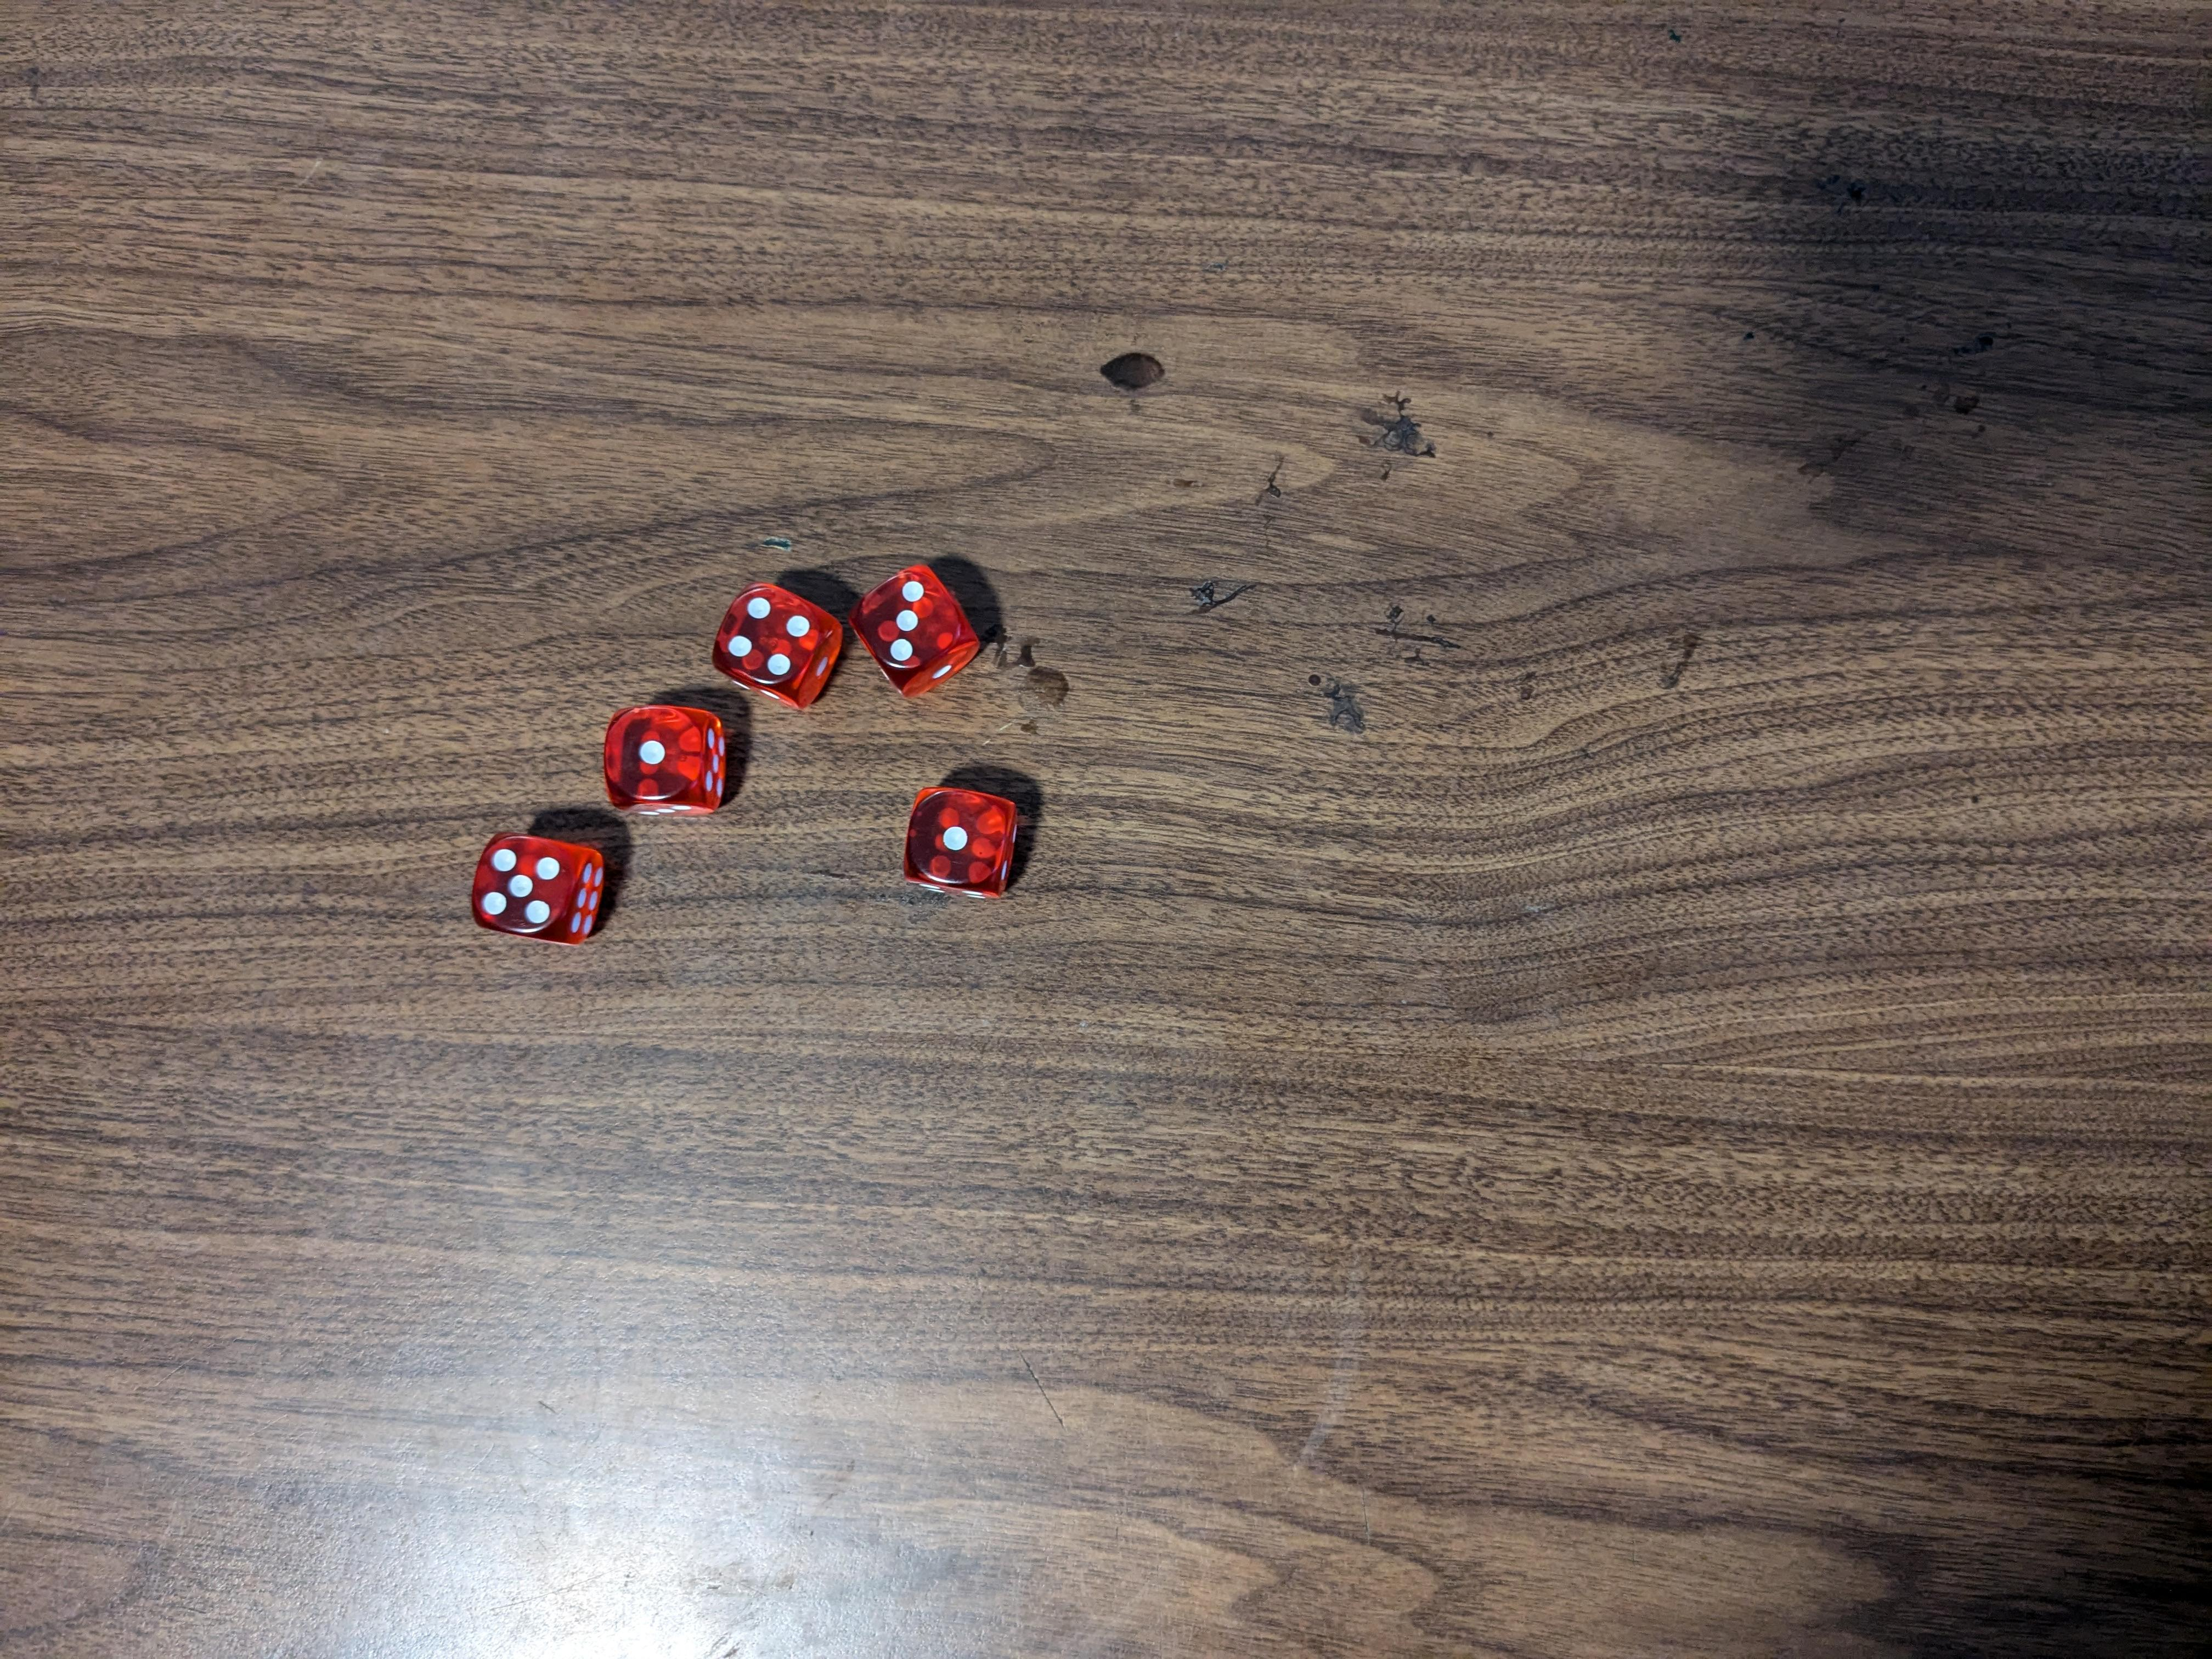five: (470, 830, 610, 943)
four: (709, 579, 841, 706)
one: (902, 784, 1017, 899), (603, 706, 728, 810)
three: (852, 565, 988, 701)
